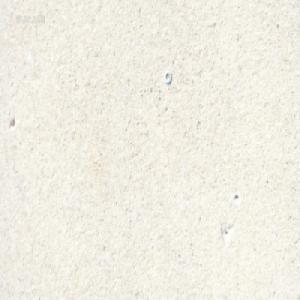Washer: (163, 69, 171, 84)
